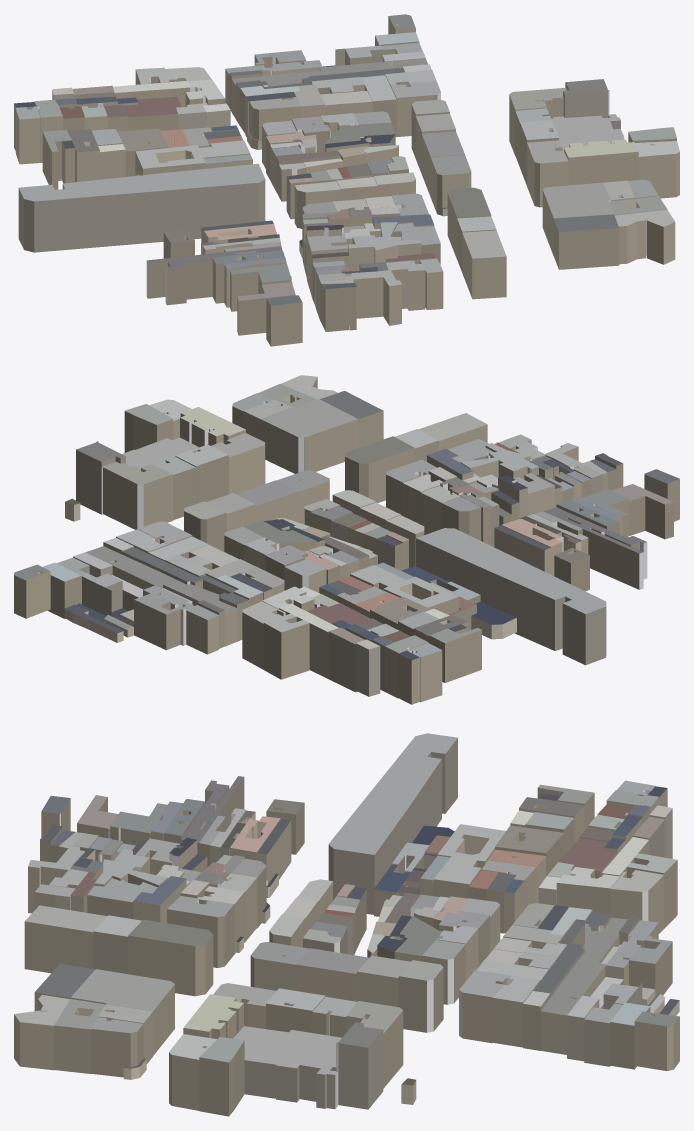
3 renders of one model, top to bottom at view 1: azimuth 30°, elevation 25°; view 2: azimuth 150°, elevation 25°; view 3: azimuth 270°, elevation 25°, orthographic. The views are drawn at different scales.
Visible parts, largest first — view 1: tuile; view 2: tuile; view 3: tuile.
Boxes of the visible parts, <box> form: tuile: <box>14,14,679,346</box>; tuile: <box>14,375,679,704</box>; tuile: <box>14,733,679,1116</box>.
Bounding box in the file's own units: 309 × 29.28 × 268.
